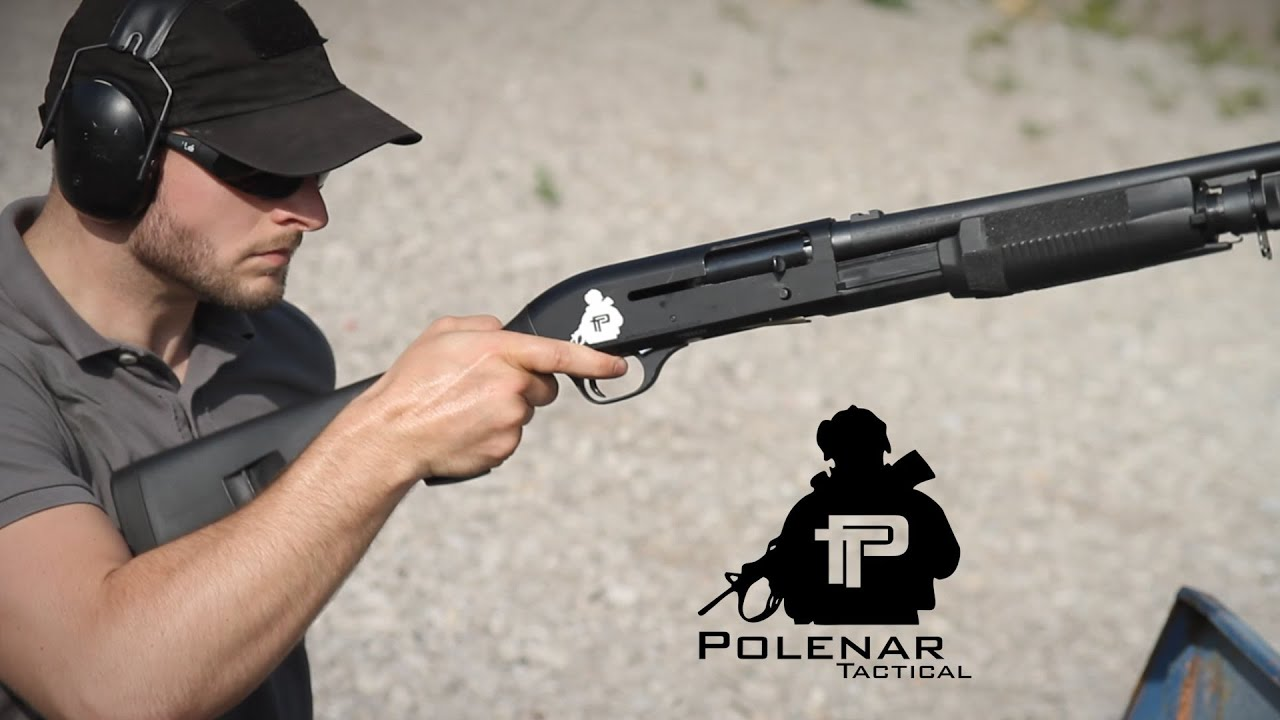Gun: (519, 83, 1234, 381)
